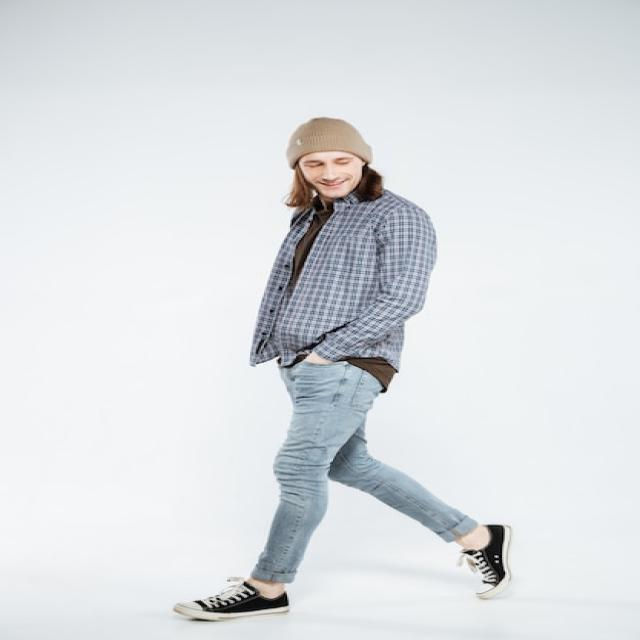Person: (175, 118, 516, 621)
